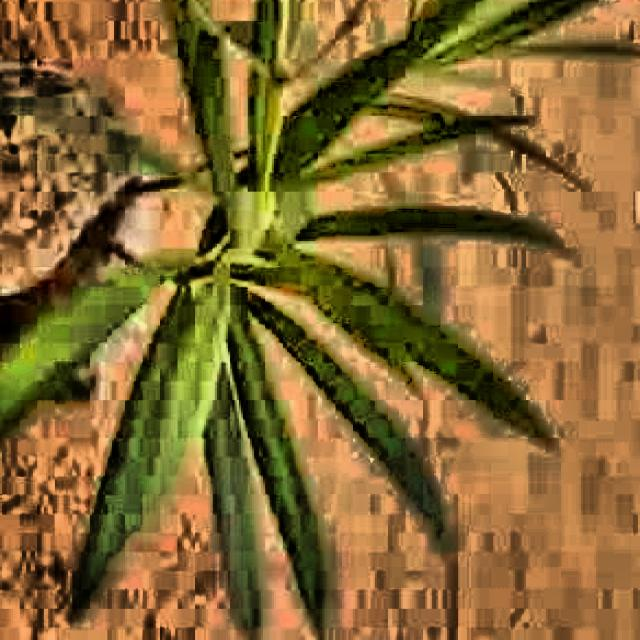Oleander: (2, 1, 640, 640)
